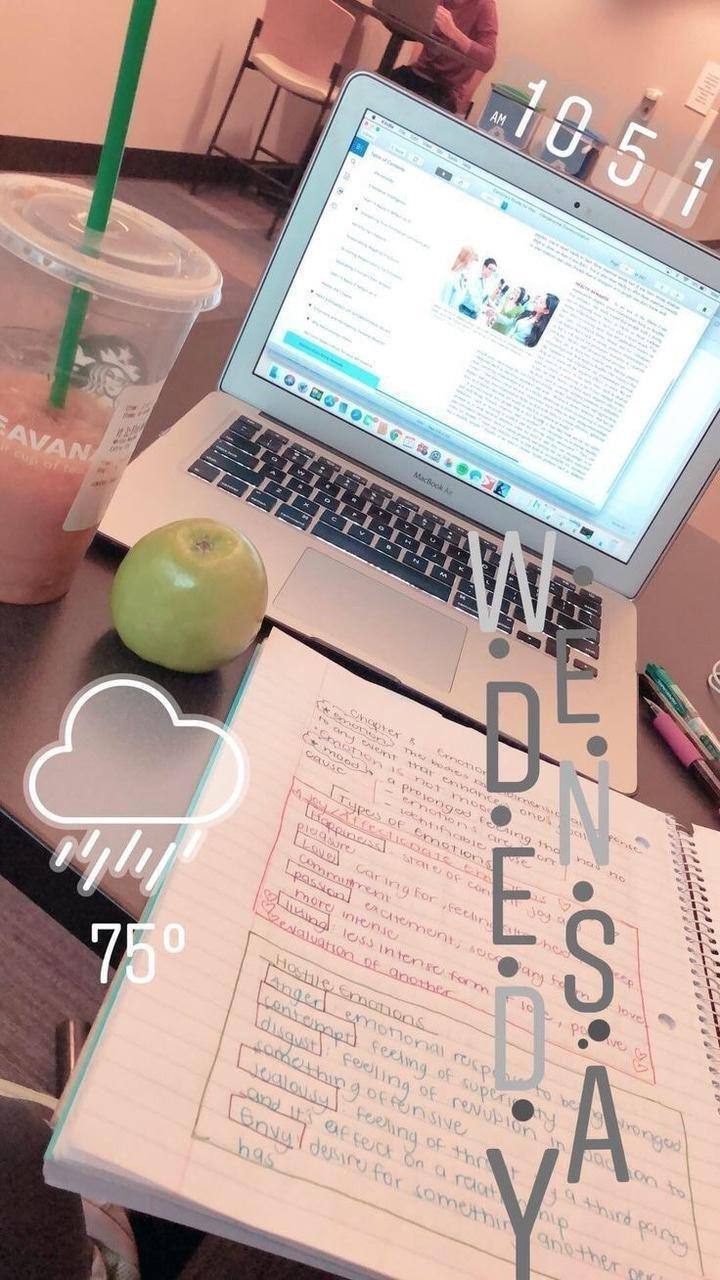cup-disposable: (1, 173, 225, 601)
